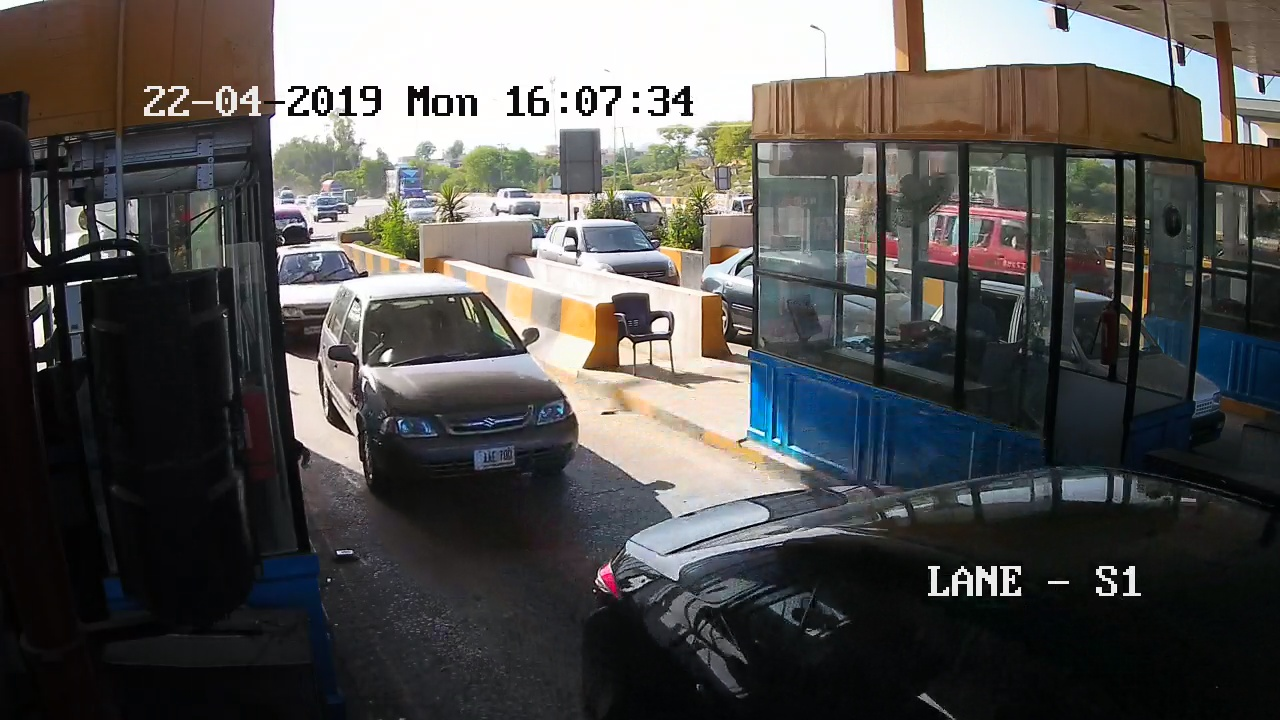Number Plate (Car): (474, 447, 516, 468)
